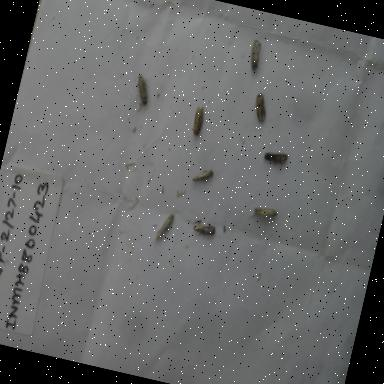pbw: (148, 210, 176, 252), (248, 86, 274, 126), (186, 98, 210, 139), (128, 72, 155, 108), (243, 36, 267, 74), (261, 144, 293, 171), (190, 161, 218, 189), (190, 218, 220, 243), (251, 200, 280, 224)
